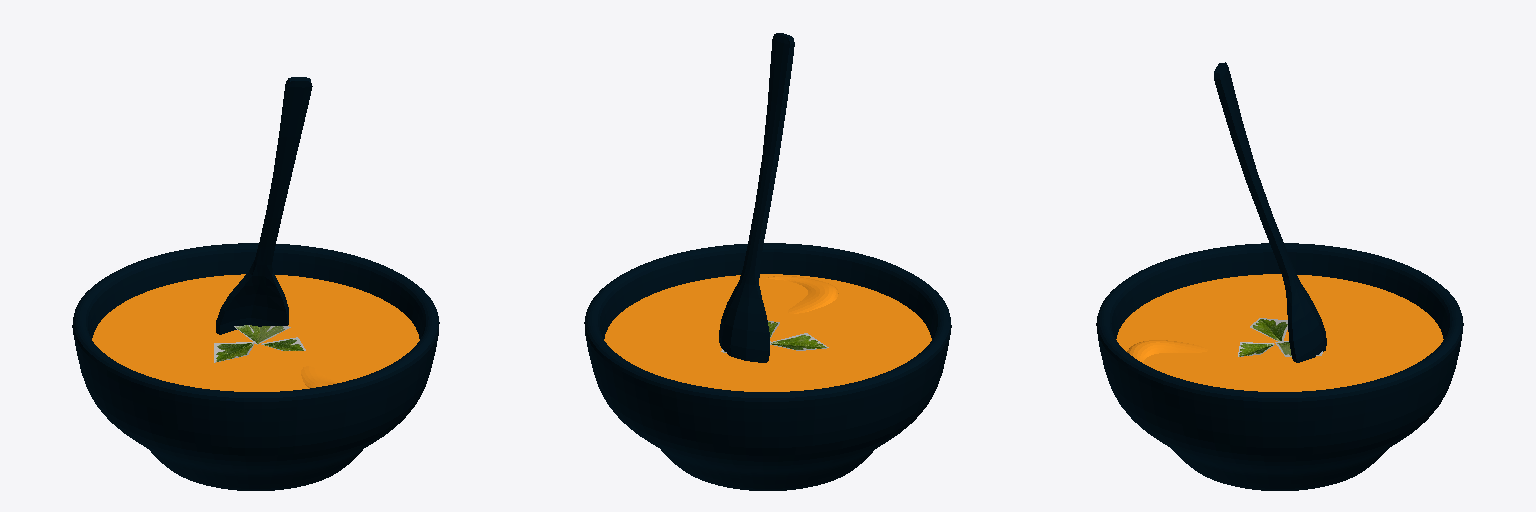
3 renders of one model, left to right at view 1: azimuth 30°, elevation 25°; view 2: azimuth 150°, elevation 25°; view 3: azimuth 270°, elevation 25°, orthographic.
Visible parts, largest first — view 1: Object_5, Object_7, Object_12, Object_9; view 2: Object_5, Object_7, Object_12, Object_14, Object_9; view 3: Object_5, Object_7, Object_12, Object_9, Object_14.
Part boxes in pixels (left/top/right/bottom): Object_5: left=72, top=243, right=439, bottom=490; Object_7: left=92, top=274, right=419, bottom=391; Object_12: left=216, top=77, right=312, bottom=334; Object_9: left=214, top=325, right=305, bottom=362; Object_5: left=584, top=243, right=951, bottom=490; Object_7: left=604, top=274, right=931, bottom=391; Object_12: left=719, top=33, right=794, bottom=362; Object_14: left=766, top=276, right=838, bottom=313; Object_9: left=721, top=321, right=828, bottom=352; Object_5: left=1096, top=243, right=1463, bottom=490; Object_7: left=1116, top=274, right=1443, bottom=391; Object_12: left=1214, top=62, right=1326, bottom=362; Object_9: left=1238, top=318, right=1322, bottom=356; Object_14: left=1127, top=340, right=1207, bottom=362.
Size of the model in its own units: 2.01 by 2.38 by 2.01.
3 materials, 2 textured.